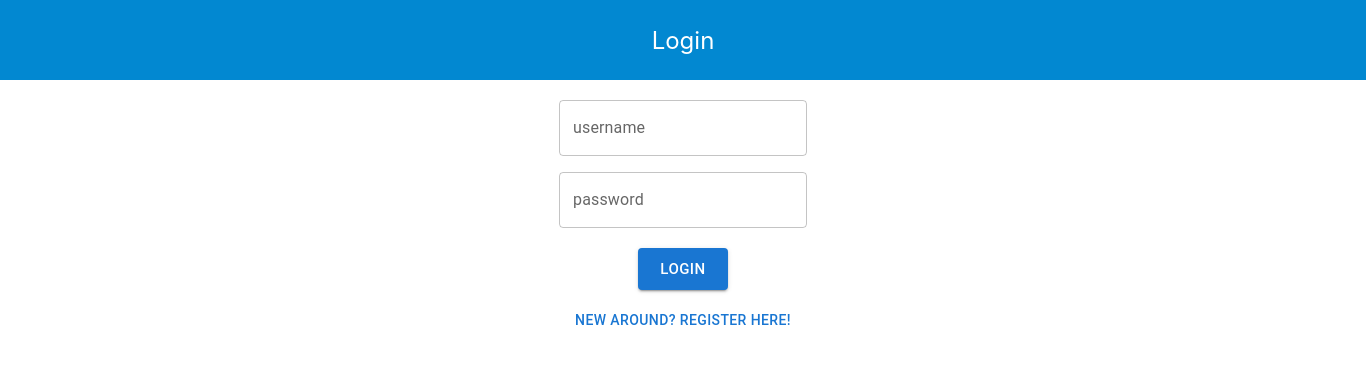
Test case: Login Page › should handle unsuccessful login click when non existing username is provided
What coordinates should you click on to do the following:
click the button "Login"
I would click on:
 (683, 269)
Its box is x1=638 y1=248 x2=728 y2=290.
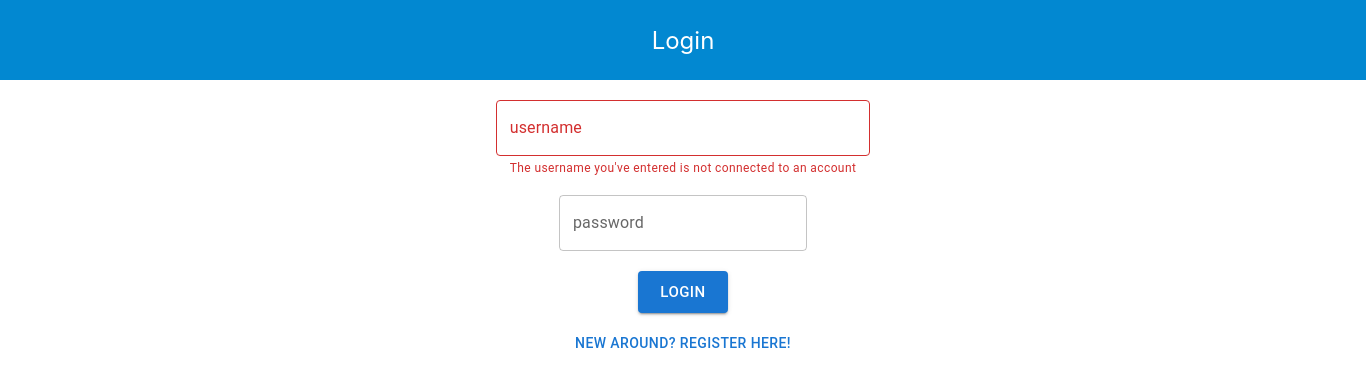
Now the text "The username you've entered is not connected to an account" is shown, box x1=510 y1=159 x2=856 y2=179
